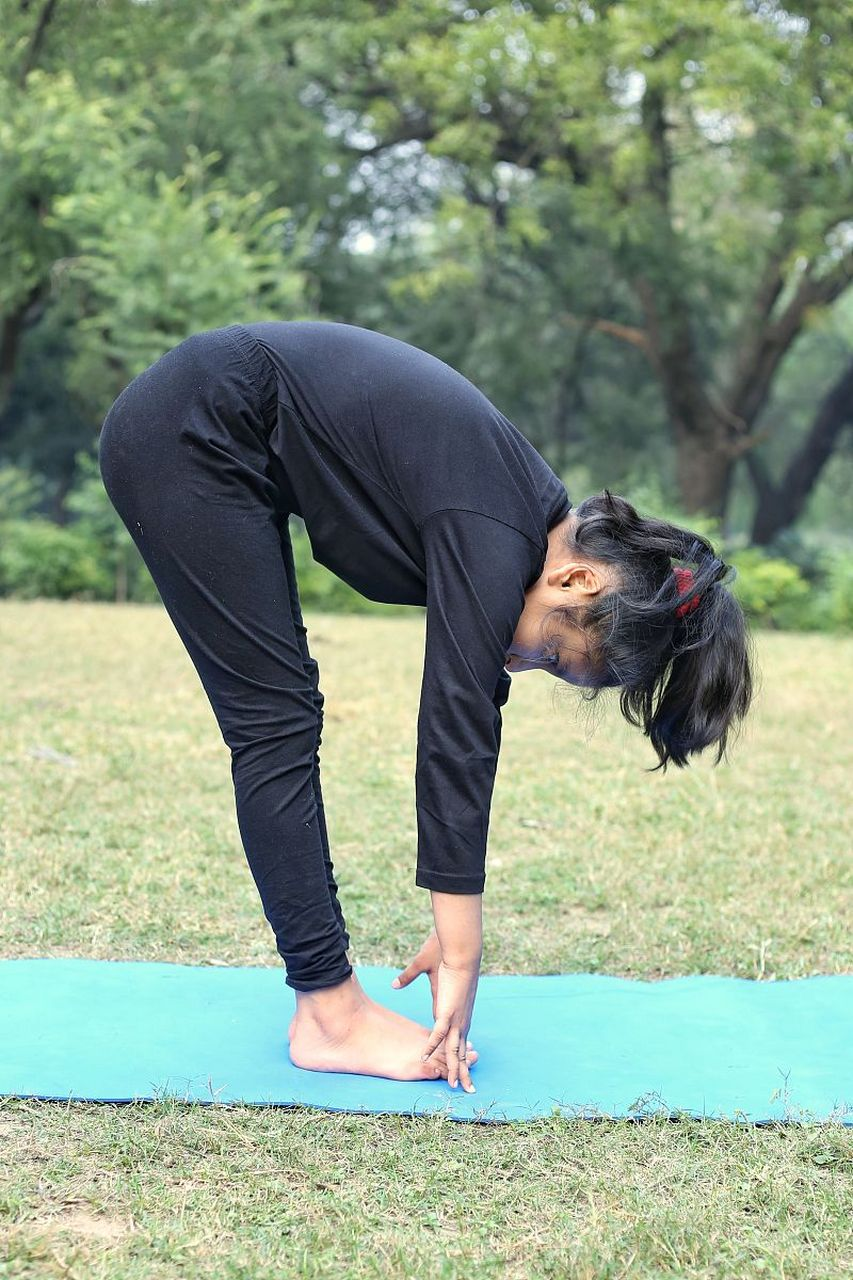bending: (89, 284, 775, 1102)
